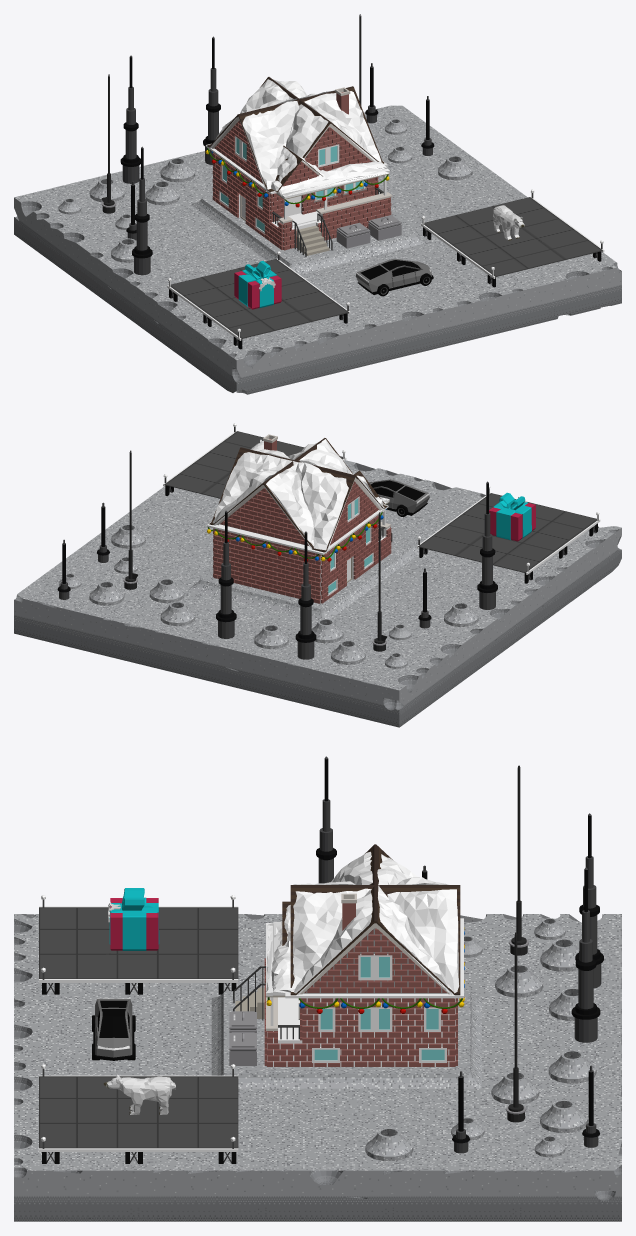
3 views of the same model, one above another, from view 1: azimuth 30°, elevation 25°; view 2: azimuth 150°, elevation 25°; view 3: azimuth 270°, elevation 25° (orthographic). The views are drawn at different scales.
Parts seen in each view (by area): view 1: Cube.027, Cube.1419, Cube.026, Cube.025, Cube.028, VEHICLES_CYBERTRUCK, OBJRANDOM_GIANT_PRESENT, Cylinder.020, Cylinder.021, Cylinder.017, ANIMAL_OSO_POLAR, Cube.029 (+5 smaller); view 2: Cube.027, Cube.1419, Cube.025, Cube.028, Cube.026, OBJRANDOM_GIANT_PRESENT, VEHICLES_CYBERTRUCK, Cylinder.020, Cylinder.021, Cylinder.017, Cylinder.031, Cylinder.028 (+8 smaller); view 3: Cube.027, Cube.1419, Cube.026, Cube.025, Cube.028, OBJRANDOM_GIANT_PRESENT, VEHICLES_CYBERTRUCK, Cylinder.017, ANIMAL_OSO_POLAR, Cylinder.020, Cylinder.021, Cylinder.033 (+11 smaller).
Part boxes in pixels (x1,y1,x2,y2): Cube.027: (14, 105, 621, 394); Cube.1419: (205, 77, 392, 256); Cube.026: (421, 189, 604, 287); Cube.025: (167, 251, 350, 349); Cube.028: (191, 195, 424, 274); VEHICLES_CYBERTRUCK: (355, 258, 433, 296); OBJRANDOM_GIANT_PRESENT: (234, 261, 281, 309); Cylinder.020: (120, 55, 140, 183); Cylinder.021: (132, 146, 152, 275); Cylinder.017: (203, 36, 220, 164); ANIMAL_OSO_POLAR: (493, 205, 524, 240); Cube.029: (336, 222, 370, 248); Cube.027: (14, 460, 621, 727); Cube.1419: (207, 434, 392, 603); Cube.025: (417, 485, 600, 583); Cube.028: (190, 538, 419, 620); Cube.026: (163, 423, 346, 498); OBJRANDOM_GIANT_PRESENT: (489, 492, 535, 541); VEHICLES_CYBERTRUCK: (369, 479, 429, 517); Cylinder.020: (295, 531, 316, 659); Cylinder.021: (477, 481, 497, 609); Cylinder.017: (216, 510, 236, 638); Cylinder.031: (89, 581, 124, 605); Cylinder.028: (331, 640, 365, 664); Cube.027: (14, 914, 621, 1221); Cube.1419: (233, 844, 464, 1066); Cube.026: (39, 1064, 238, 1163); Cube.025: (39, 895, 238, 994); Cube.028: (211, 991, 481, 1088); OBJRANDOM_GIANT_PRESENT: (108, 888, 159, 950); VEHICLES_CYBERTRUCK: (92, 998, 135, 1060); Cylinder.017: (571, 867, 600, 1042); ANIMAL_OSO_POLAR: (103, 1074, 175, 1114); Cylinder.020: (575, 813, 603, 988); Cylinder.021: (316, 756, 336, 883); Cylinder.033: (365, 1128, 413, 1160).
Size of the model in its own units: 4000 by 1799 by 4000.
38 materials, 4 textured.
